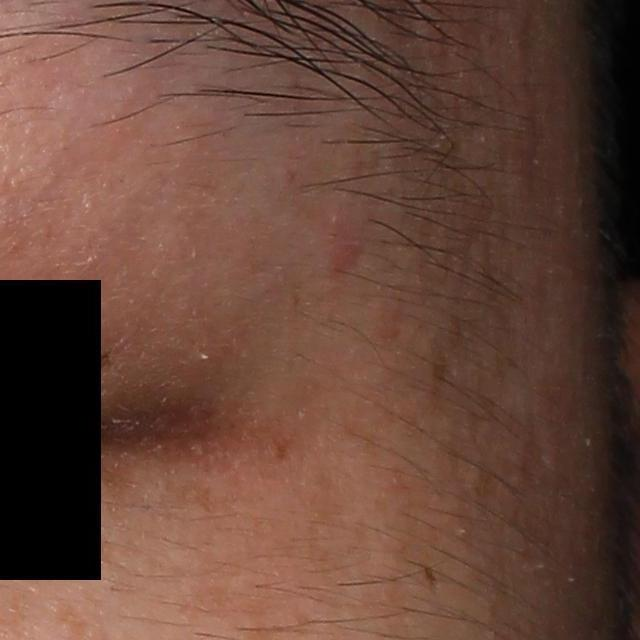melasma: (293, 460, 351, 586), (149, 475, 238, 519)
papule: (327, 228, 362, 272)
